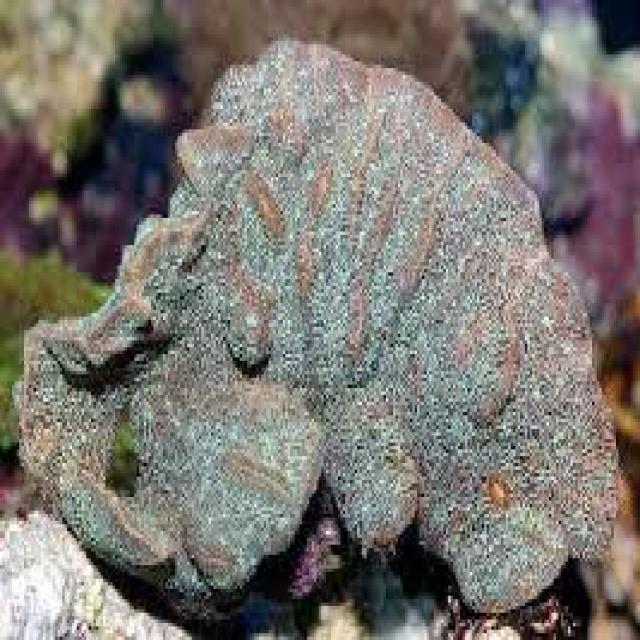Coral: (10, 36, 618, 624)
